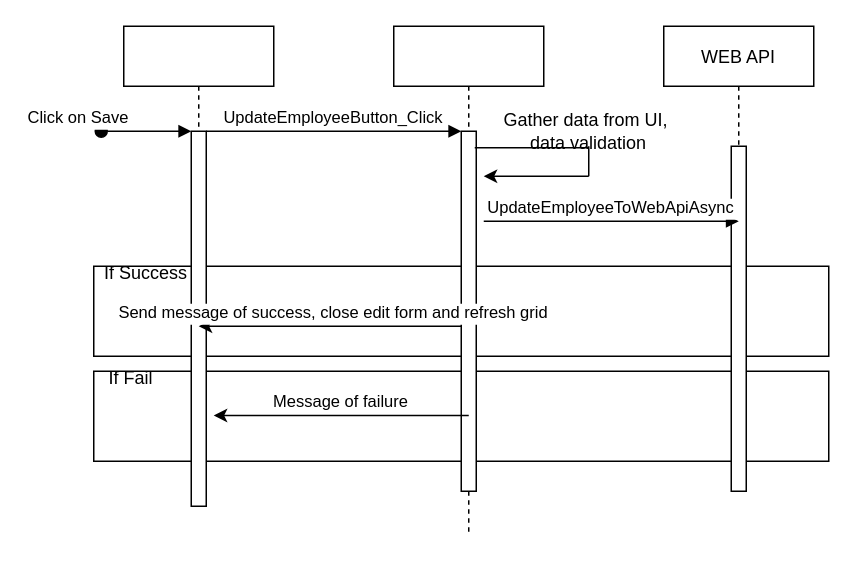
The diagram is 855 pixels wide and 563 high, and some of its shapes have lost their labels. The shapes that lost their labels are listed below. From the top down, each one's centre as x and y in pixels, then its label:
point 198,265: USER
point 468,280: APP
